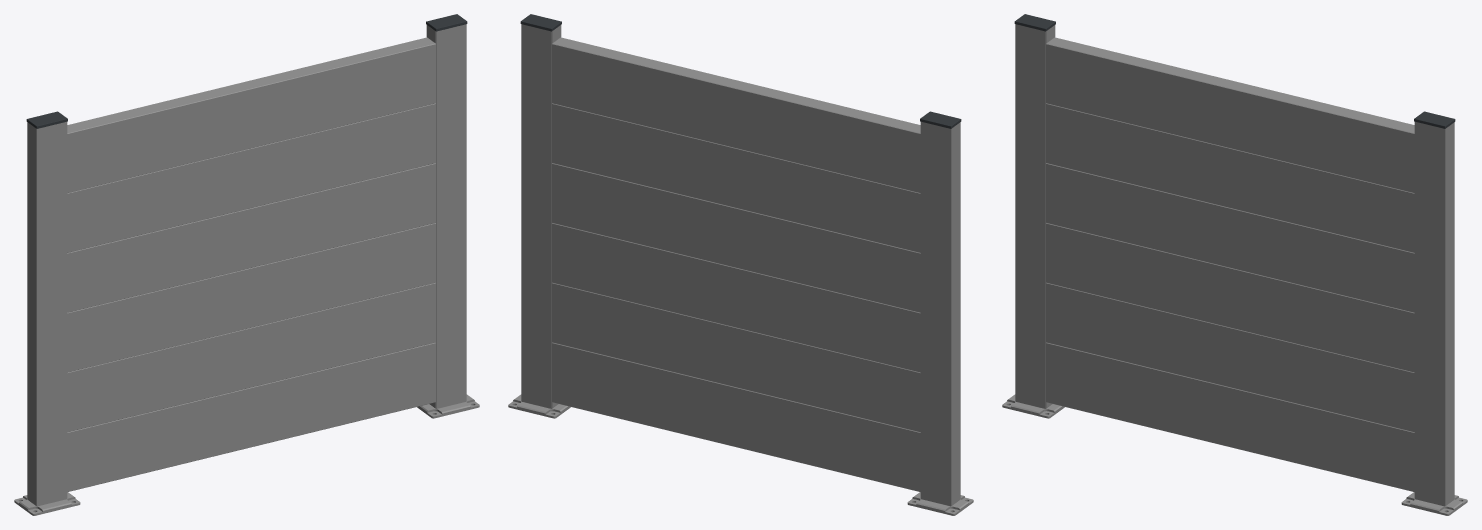
3 views of the same model, side by side, from view 1: azimuth 30°, elevation 25°; view 2: azimuth 150°, elevation 25°; view 3: azimuth 330°, elevation 25° (orthographic).
Parts seen in each view (by area): view 1: Rectangle072, Rectangle071, Rectangle073, base017, base016; view 2: Rectangle072, Rectangle071, Rectangle073, base017, base016; view 3: Rectangle072, Rectangle073, Rectangle071, base016, base017.
Boxes of the visible parts, x1=… form: Rectangle072: x1=67, y1=37, x2=435, y2=491; Rectangle071: x1=27, y1=121, x2=67, y2=506; Rectangle073: x1=426, y1=24, x2=466, y2=408; base017: x1=14, y1=492, x2=80, y2=515; base016: x1=417, y1=394, x2=479, y2=418; Rectangle072: x1=552, y1=37, x2=920, y2=491; Rectangle071: x1=920, y1=121, x2=960, y2=506; Rectangle073: x1=521, y1=24, x2=561, y2=408; base017: x1=907, y1=492, x2=973, y2=515; base016: x1=508, y1=394, x2=570, y2=418; Rectangle072: x1=1046, y1=37, x2=1414, y2=491; Rectangle073: x1=1414, y1=121, x2=1454, y2=506; Rectangle071: x1=1015, y1=24, x2=1055, y2=408; base016: x1=1401, y1=492, x2=1467, y2=515; base017: x1=1002, y1=394, x2=1064, y2=418.
Size of the model in its own units: 1171 by 962 by 90.02.
2 materials, 1 textured.
